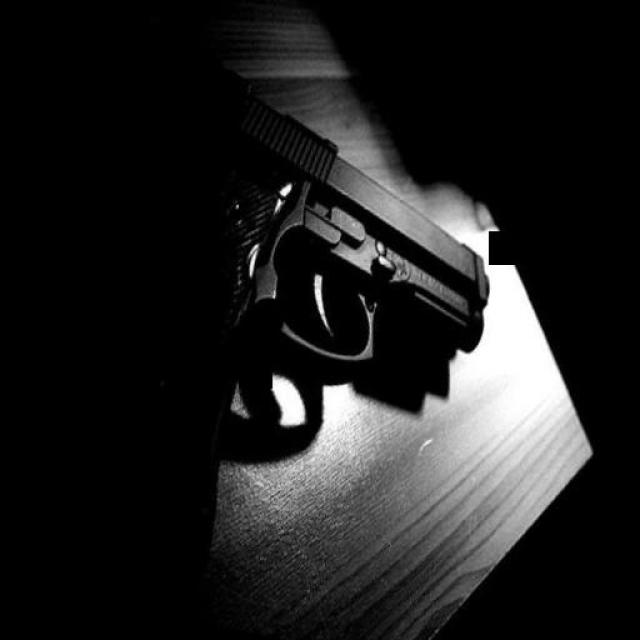gun: (79, 30, 535, 538)
